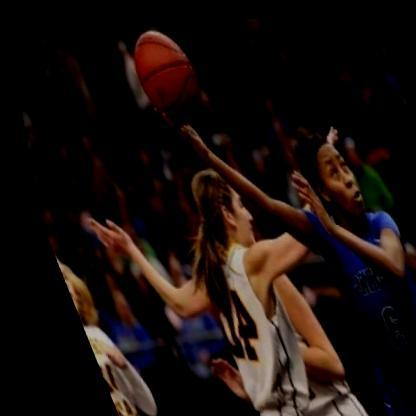basketball: (113, 14, 218, 132)
